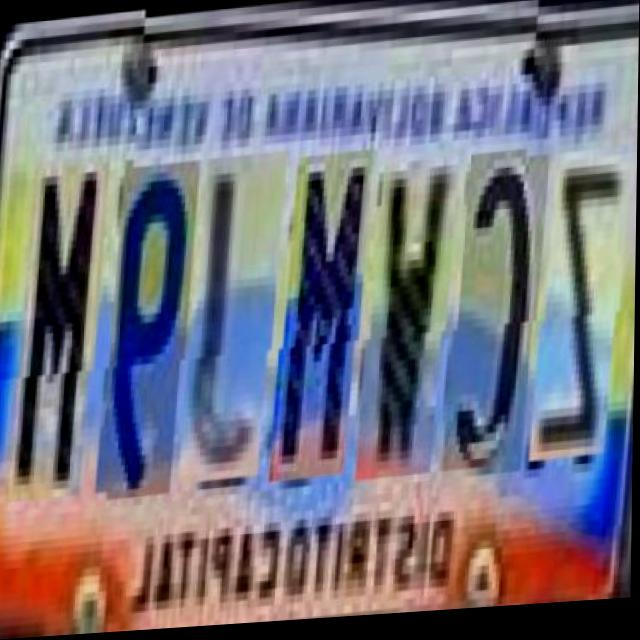9: (103, 158, 200, 497)
c: (450, 153, 550, 475)
j: (187, 152, 287, 482)
m: (12, 166, 108, 505), (276, 151, 373, 481)
w: (363, 162, 459, 483)
z: (539, 145, 633, 460)
